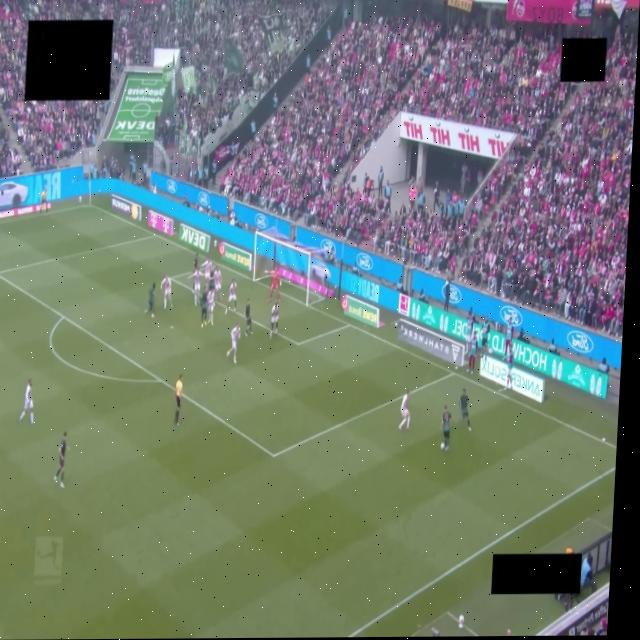ball: (441, 443, 444, 450)
player: (54, 431, 68, 487), (19, 380, 32, 425), (226, 324, 239, 364), (459, 388, 471, 430), (265, 269, 279, 302), (441, 405, 450, 451), (399, 391, 409, 430), (160, 276, 171, 310), (225, 279, 236, 313), (191, 269, 200, 306), (269, 302, 278, 339), (145, 284, 154, 318), (200, 286, 207, 326), (206, 290, 214, 325), (213, 267, 221, 301), (200, 258, 211, 281), (244, 299, 251, 335), (207, 267, 214, 292), (193, 252, 198, 271)
referee: (174, 374, 182, 425)
